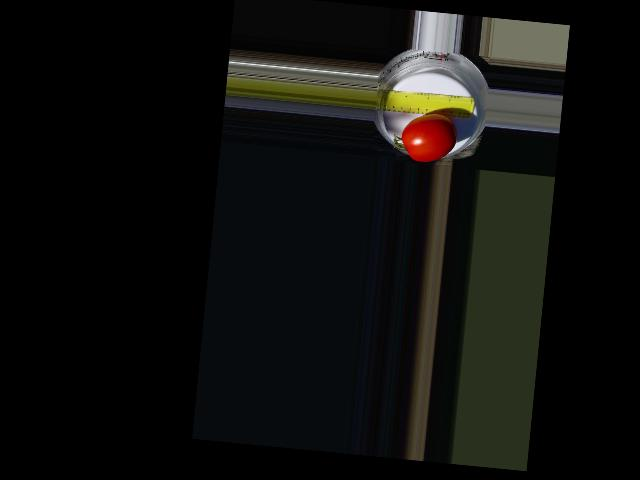tomato: (398, 109, 458, 165)
